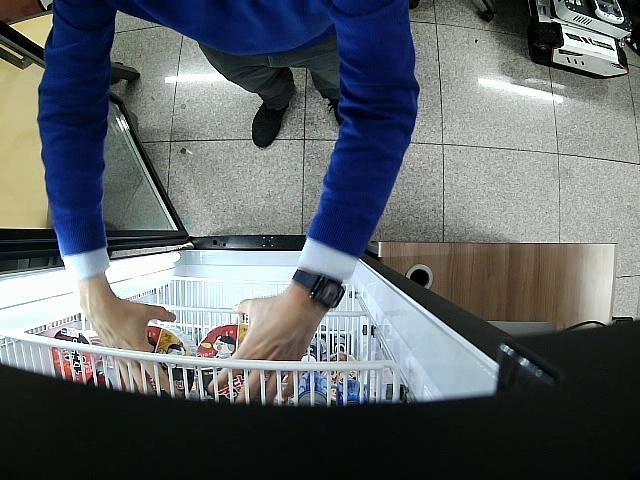07_buldak_L: (197, 323, 249, 402), (147, 326, 195, 399)
